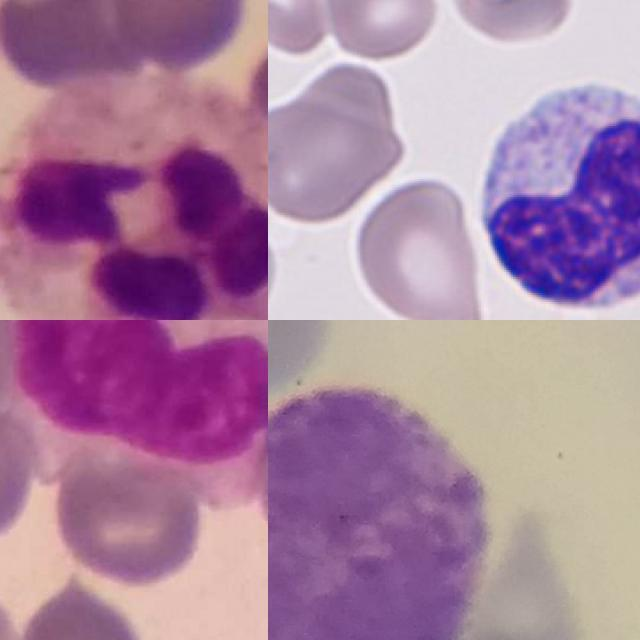Basophil: (268, 385, 489, 640)
Lymphocyte: (464, 67, 640, 320)
Monocyte: (12, 320, 268, 490)
Neutrophil: (0, 75, 268, 320)
RBC: (351, 174, 488, 320), (268, 95, 411, 227), (317, 0, 443, 65), (438, 0, 582, 49), (268, 0, 339, 56), (268, 195, 282, 320)
